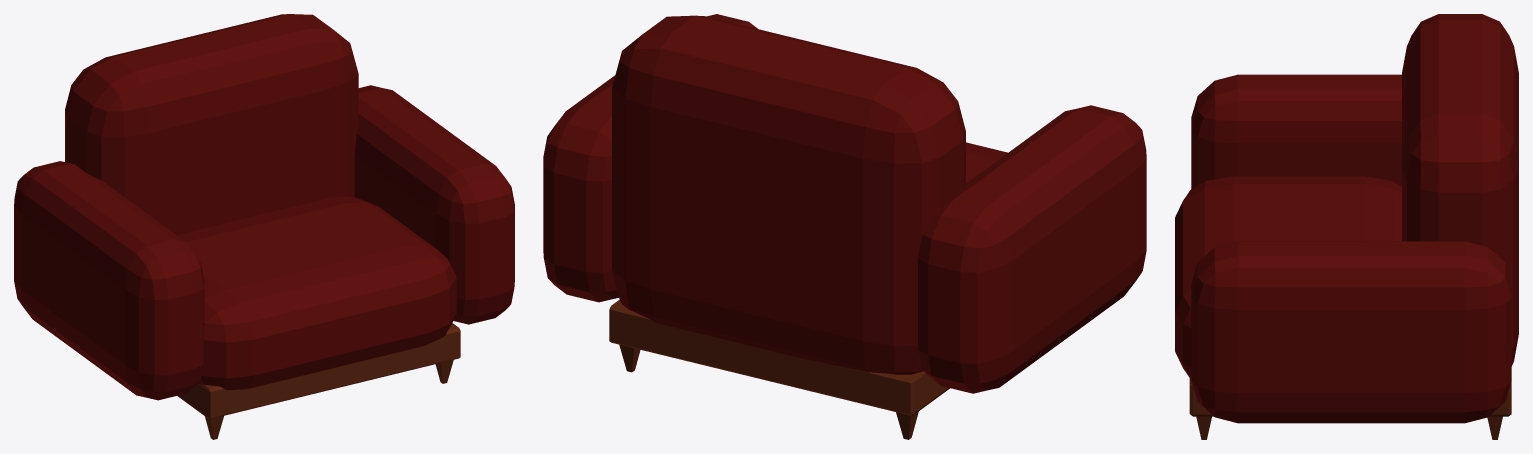
Rendered from hh_sofa_small.glb.
3 renders of one model, left to right at view 1: azimuth 30°, elevation 25°; view 2: azimuth 150°, elevation 25°; view 3: azimuth 270°, elevation 25°, orthographic. The views are drawn at different scales.
Parts seen in each view (by area): view 1: Sofa_B; view 2: Sofa_B; view 3: Sofa_B.
Part boxes in pixels (bbox=[...]): Sofa_B: bbox=[14, 14, 514, 439]; Sofa_B: bbox=[543, 14, 1146, 439]; Sofa_B: bbox=[1175, 14, 1518, 439].
Bounding box in the file's own units: 1.23 × 0.8708 × 0.8744.
